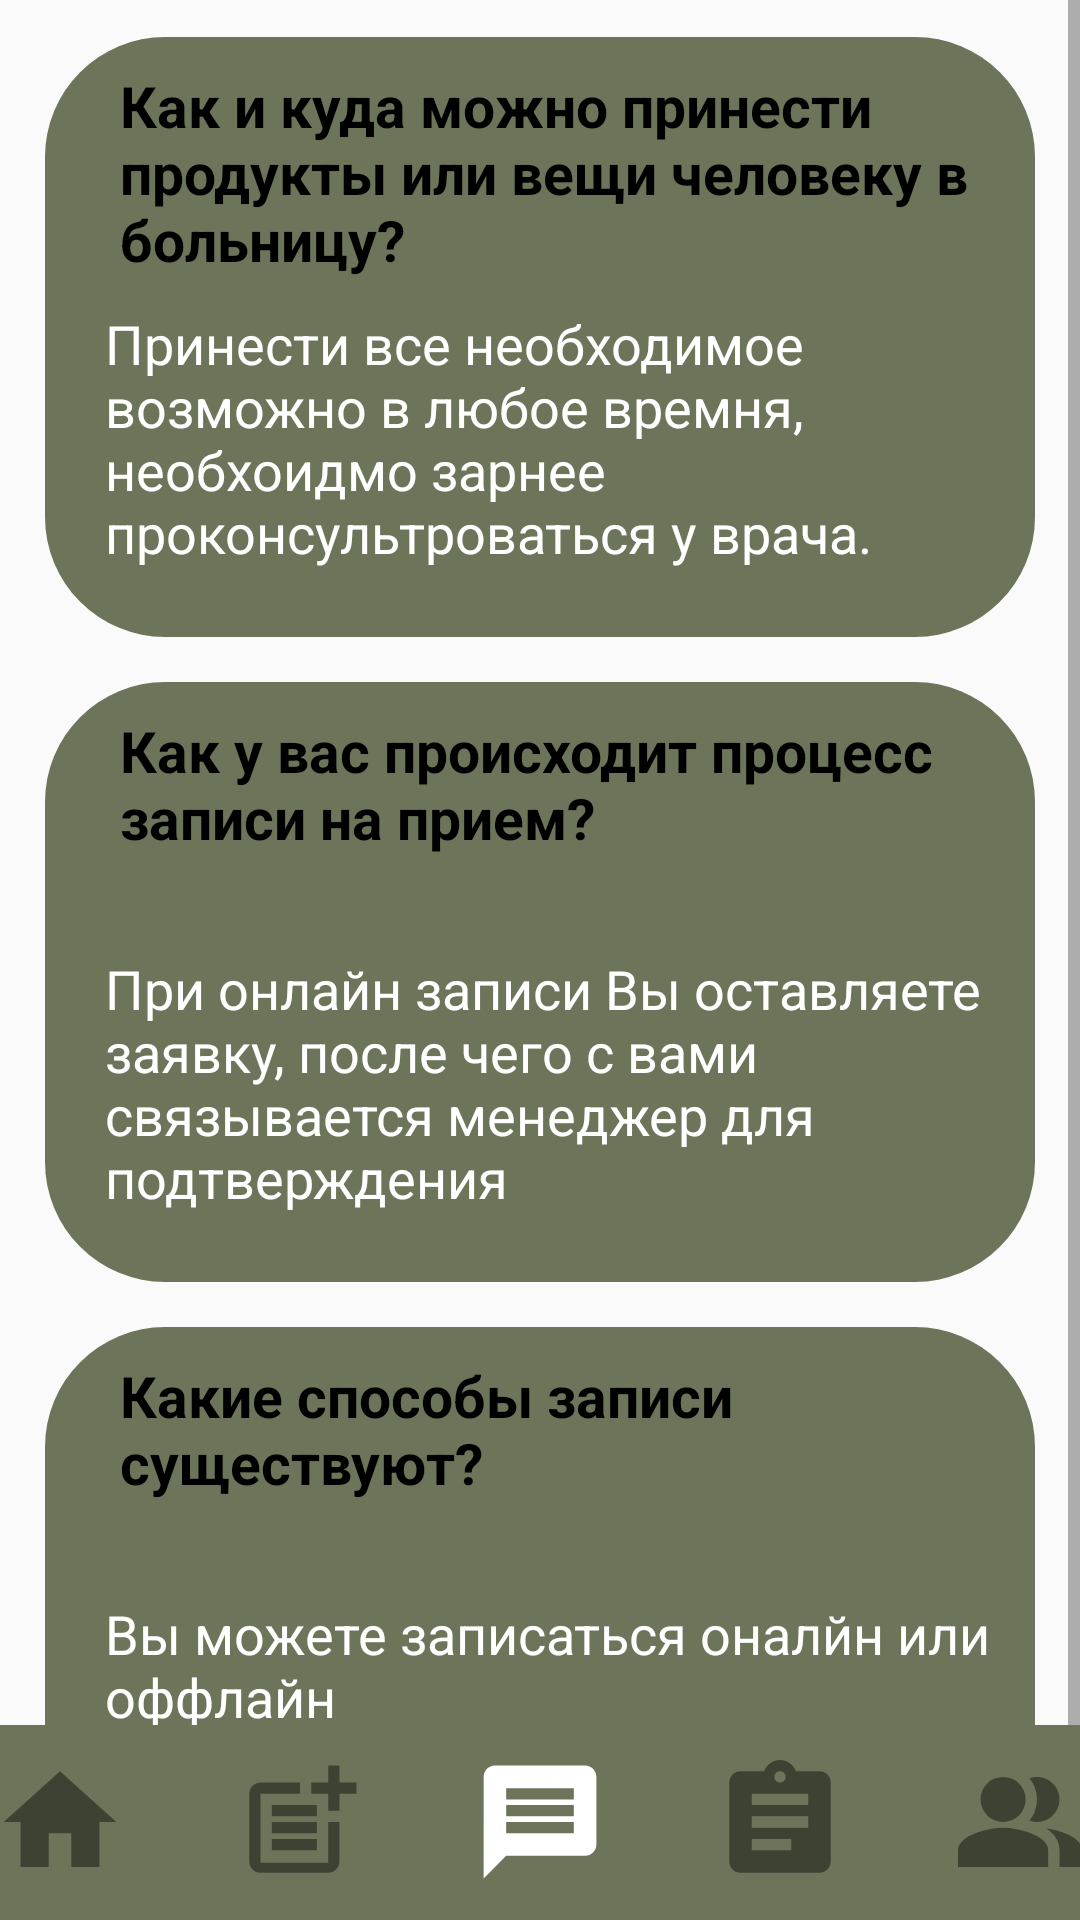

Where icons sit on this 1080 x 1920 app screen, as (x1, y1, x2, y2):
add list: (249, 1765, 357, 1873)
message: (483, 1765, 597, 1878)
